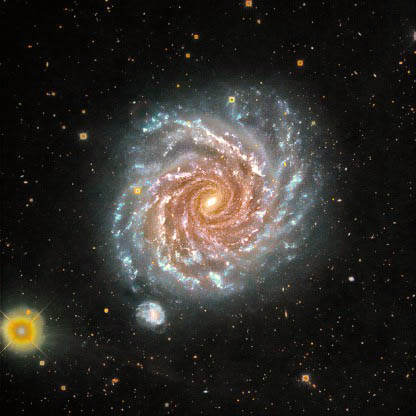NGC 1232: (88, 71, 335, 328)
